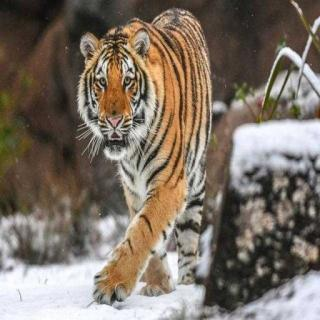Tiger: (68, 6, 210, 309)
